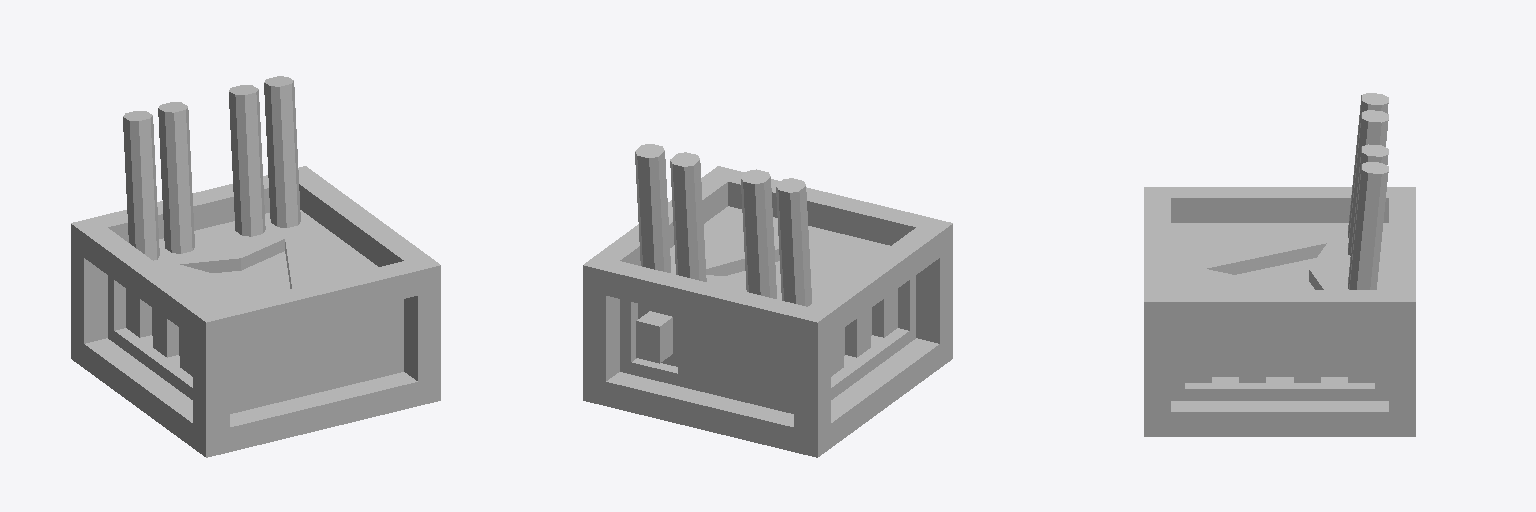
Rendered from GPS.obj.
The picture shows the model from 3 angles: view 1: azimuth 30°, elevation 25°; view 2: azimuth 150°, elevation 25°; view 3: azimuth 270°, elevation 25°; orthographic projection.
Visible parts, largest first — view 1: FrameCube; view 2: FrameCube; view 3: FrameCube.
Part boxes in pixels (x1,y1,x2,y2): FrameCube: (71,76,440,457); FrameCube: (583,144,952,457); FrameCube: (1144,93,1415,436).
Size of the model in its own units: 1 by 1 by 1.